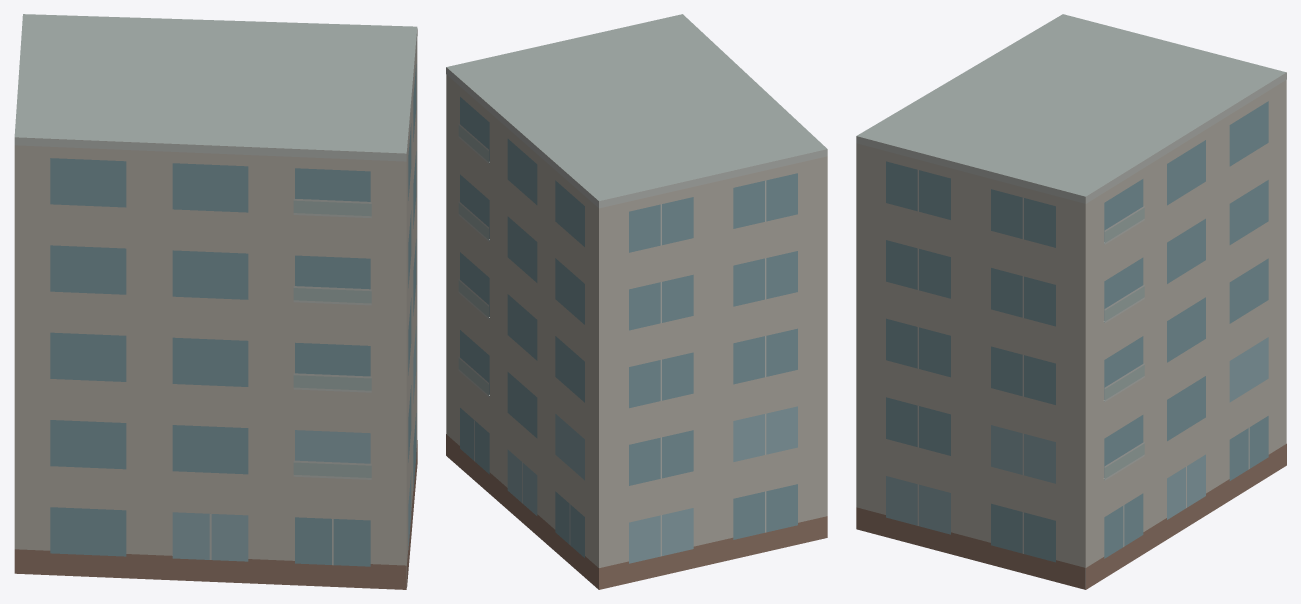
File: survey-upis-32892415.glb
3 views of the same model, side by side, from view 1: azimuth 30°, elevation 25°; view 2: azimuth 150°, elevation 25°; view 3: azimuth 270°, elevation 25° (orthographic). The views are drawn at different scales.
Visible parts, largest first — view 1: survey-upis-32892415.tmp; view 2: survey-upis-32892415.tmp; view 3: survey-upis-32892415.tmp.
Part boxes in pixels (bbox=[...]): survey-upis-32892415.tmp: bbox=[14, 14, 417, 589]; survey-upis-32892415.tmp: bbox=[446, 14, 827, 589]; survey-upis-32892415.tmp: bbox=[856, 14, 1286, 589].
Size of the model in its own units: 13.17 by 13.2 by 13.11.
